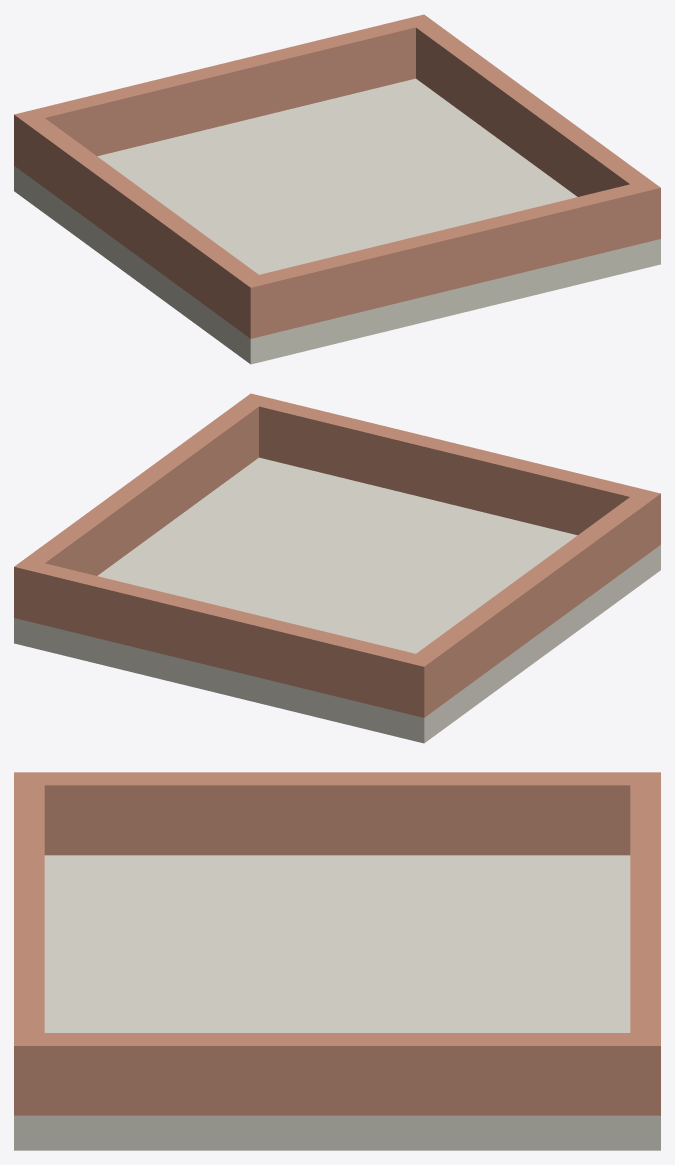
The model's file is voxel-city-districts-flat-parapet-roof-c0779863__24912.glb.
The picture shows the model from 3 angles, top to bottom: view 1: azimuth 30°, elevation 25°; view 2: azimuth 150°, elevation 25°; view 3: azimuth 270°, elevation 25°; orthographic projection. The views are drawn at different scales.
Parts seen in each view (by area): view 1: flat-parapet-roof-brick, flat-parapet-roof-concrete; view 2: flat-parapet-roof-brick, flat-parapet-roof-concrete; view 3: flat-parapet-roof-concrete, flat-parapet-roof-brick.
Boxes of the visible parts, <box> form: flat-parapet-roof-brick: <box>14,14,660,338</box>; flat-parapet-roof-concrete: <box>14,78,660,364</box>; flat-parapet-roof-brick: <box>14,393,660,717</box>; flat-parapet-roof-concrete: <box>14,457,660,743</box>; flat-parapet-roof-concrete: <box>14,855,660,1150</box>; flat-parapet-roof-brick: <box>14,772,660,1115</box>.
Bounding box in the file's own units: 4.2 × 0.75 × 4.2.
